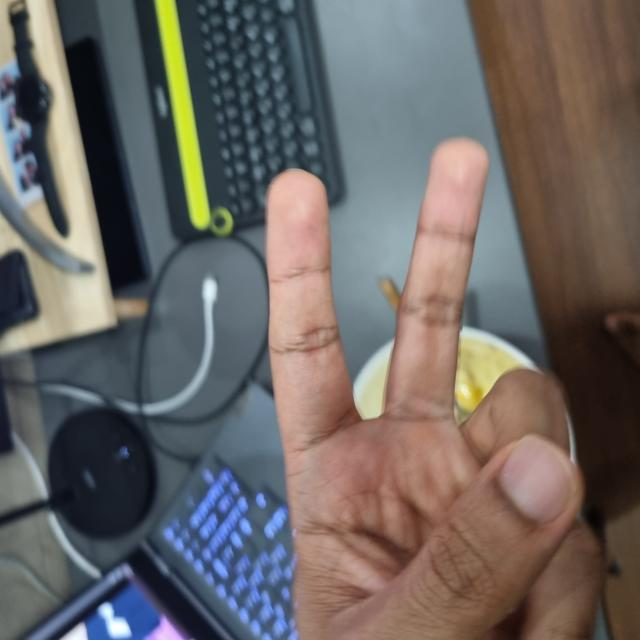Scissors: (0, 261, 504, 623)
